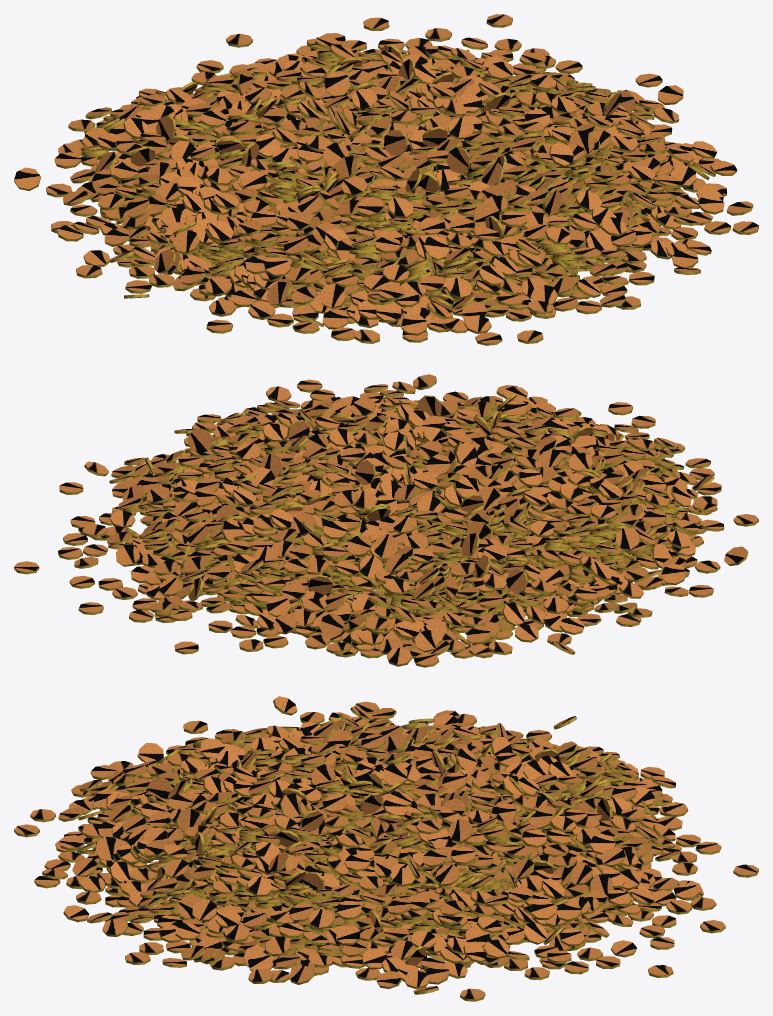
Rendered from money pile.fbx.
3 renders of one model, top to bottom at view 1: azimuth 30°, elevation 25°; view 2: azimuth 150°, elevation 25°; view 3: azimuth 270°, elevation 25°, orthographic. The views are drawn at different scales.
Size of the model in its own units: 3345 by 323 by 3537.
